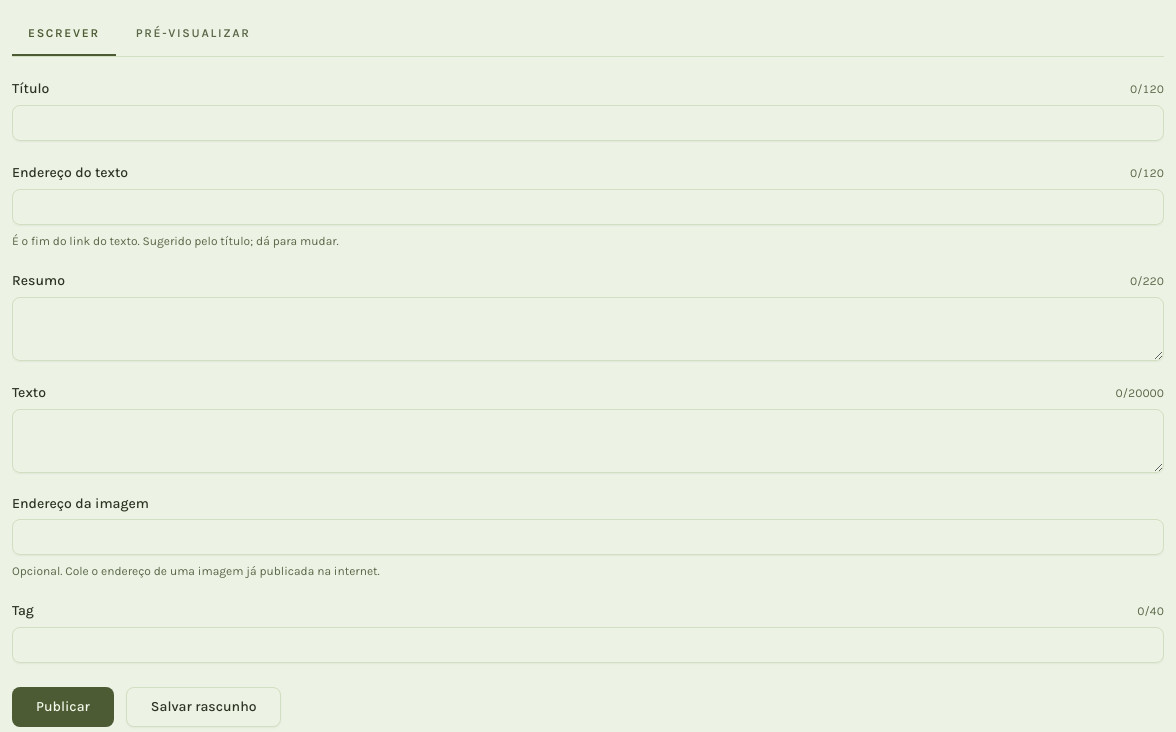
Test: PublicacaoForm › sugere o slug a partir do título
In the field labelled "Título": (588, 123) [12,105,1164,141], type "A AT não é babá!"
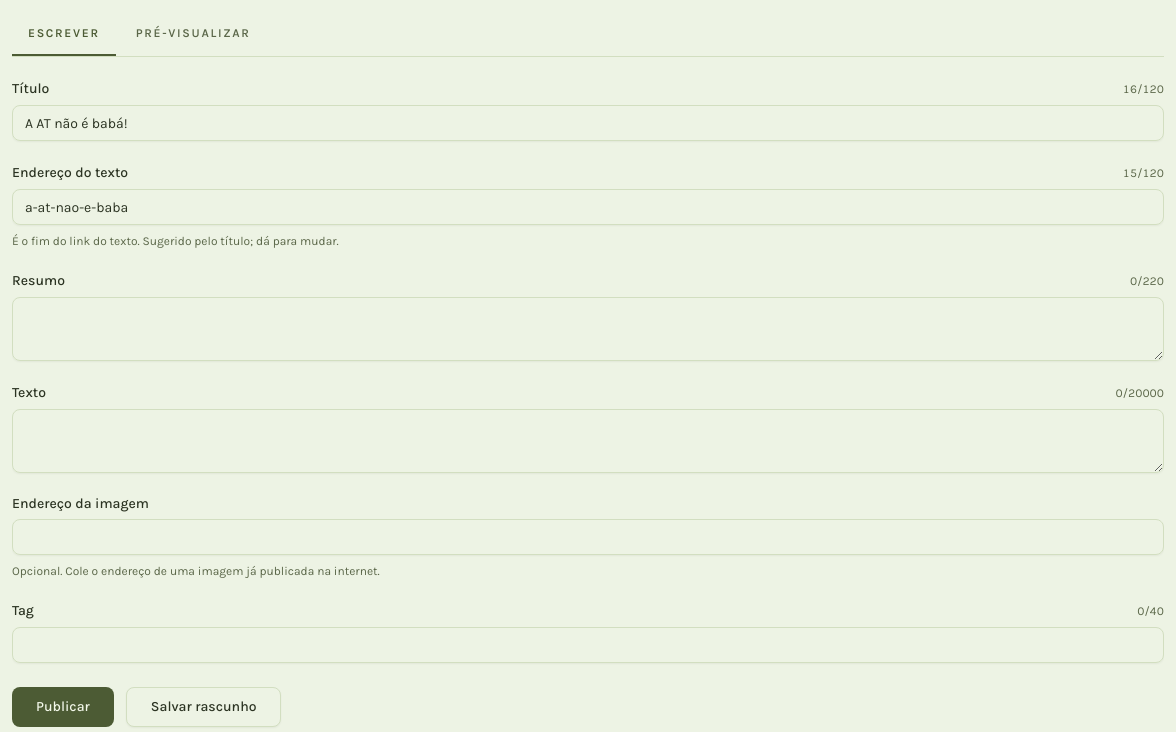
Expected: the field labelled "Endereço do texto" holds "a-at-nao-e-baba", [12,189,1164,225]
